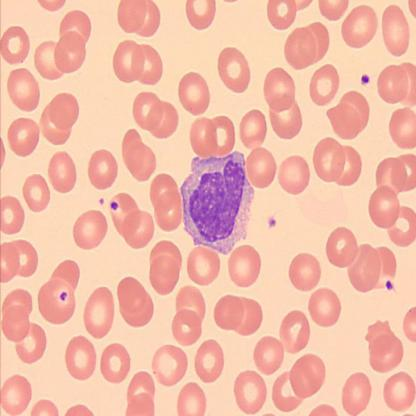Monocyte: (177, 148, 258, 258)
